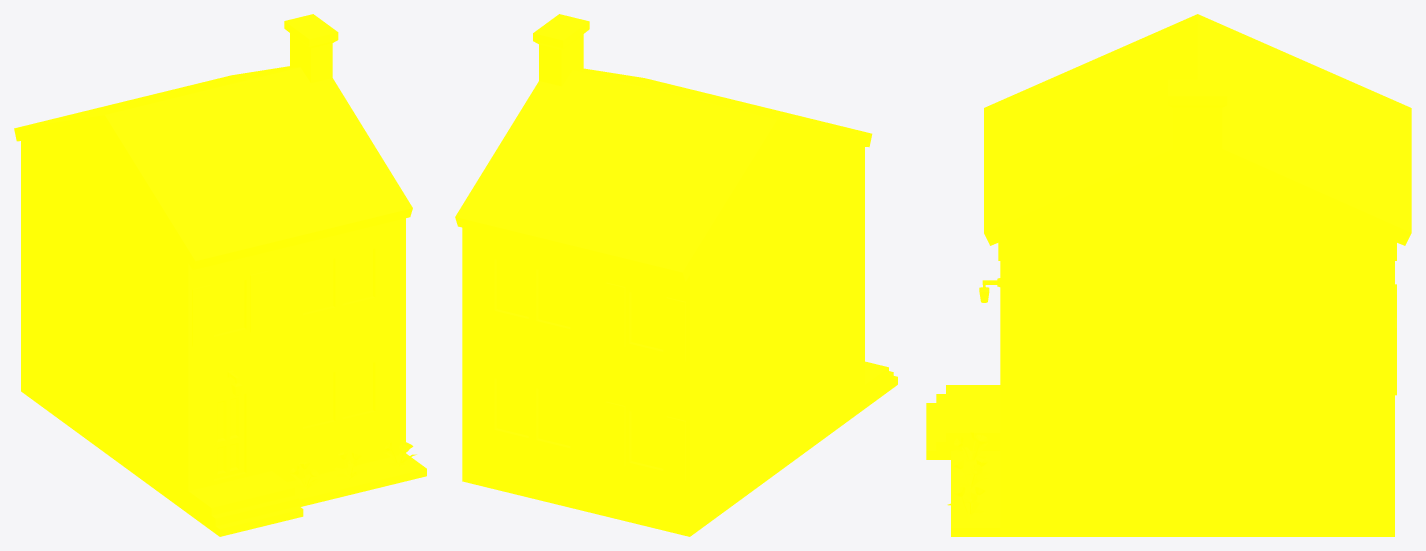
The model's file is building-house-block.glb.
3 renders of one model, left to right at view 1: azimuth 30°, elevation 25°; view 2: azimuth 150°, elevation 25°; view 3: azimuth 270°, elevation 25°, orthographic. The views are drawn at different scales.
Parts seen in each view (by area): view 1: building-house-block; view 2: building-house-block; view 3: building-house-block.
Part boxes in pixels (x1,y1,x2,y2): building-house-block: [14, 14, 426, 536]; building-house-block: [455, 14, 897, 536]; building-house-block: [926, 14, 1411, 536].
Size of the model in its own units: 6.1 by 9.9 by 9.84.
1 material, 1 textured.
